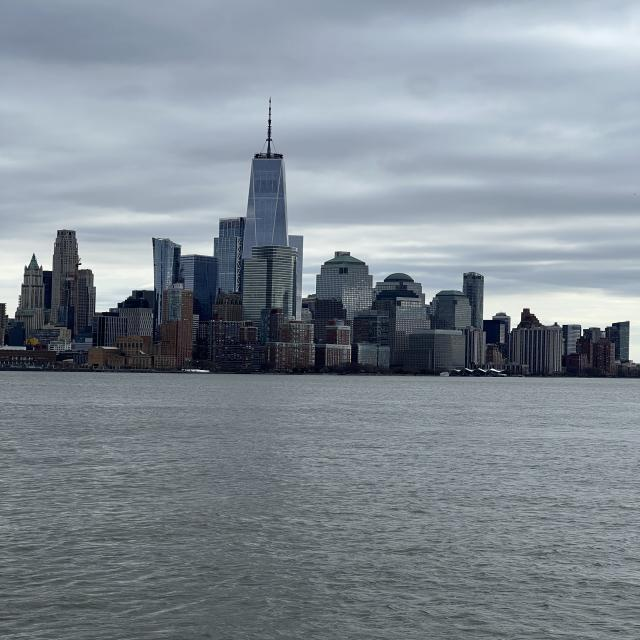WTC: (244, 95, 290, 248)
